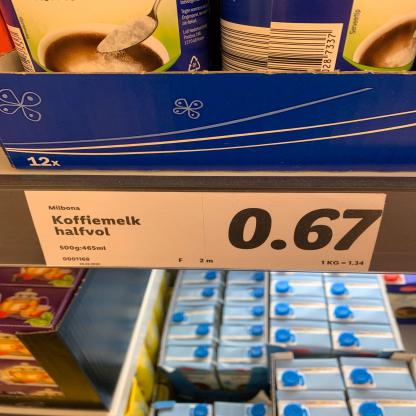prtg: (25, 191, 387, 273)
